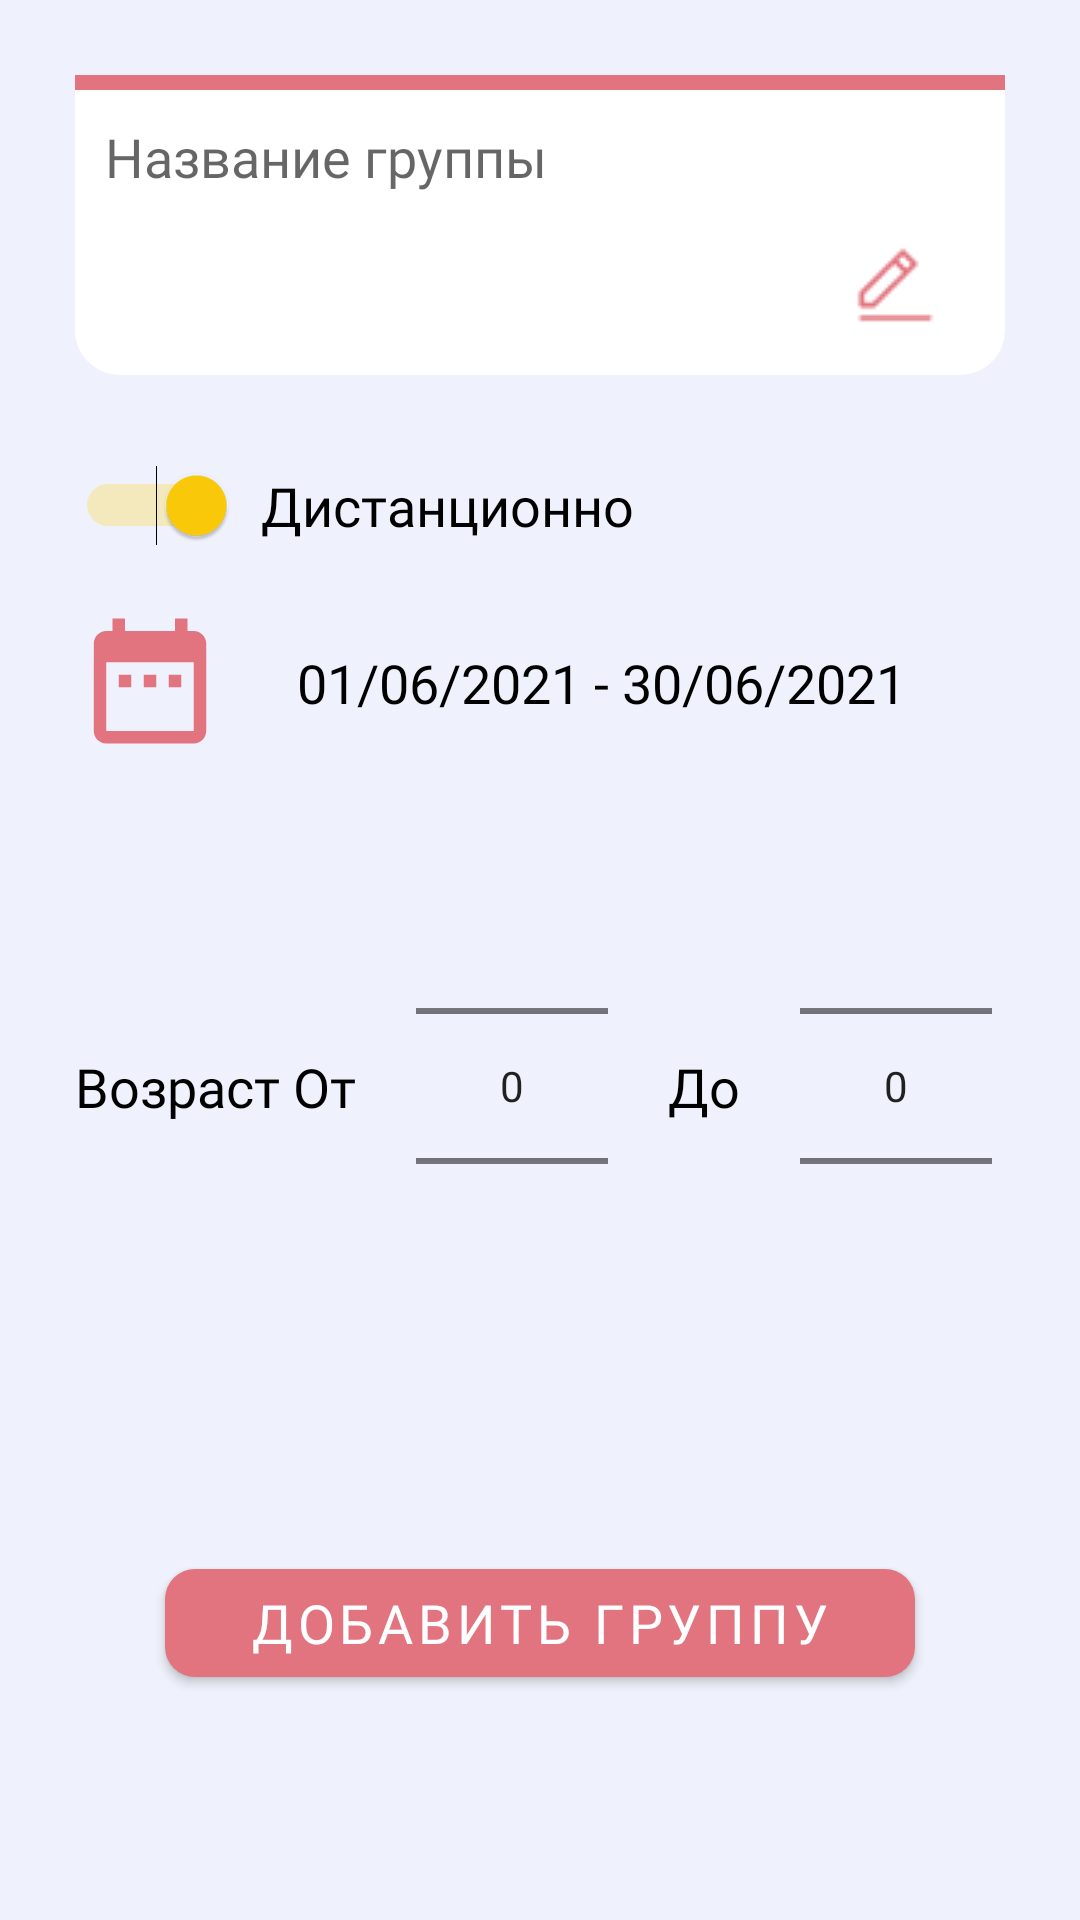

Named icons in this screenshot (1080 x 1920) and their bounding boxes, (x1, y1, x2, y2):
date range: (93, 618, 207, 744)
edit: (857, 248, 933, 322)
